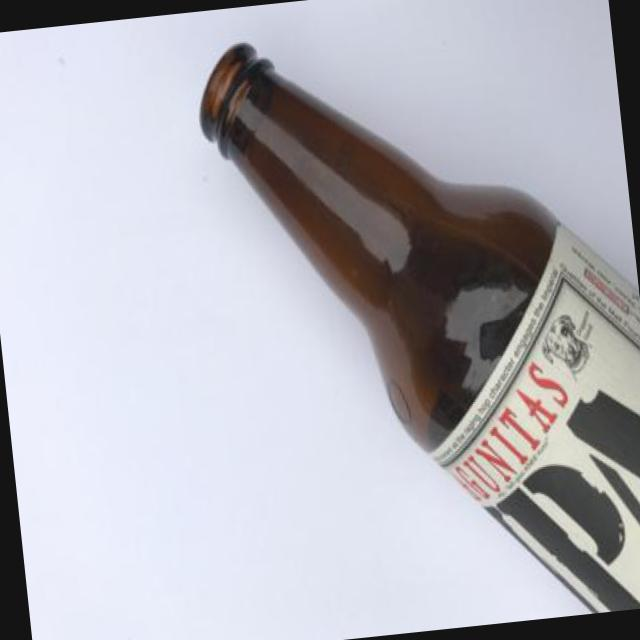chai_thuy_tinh: (198, 43, 562, 462)
giay: (430, 226, 640, 613)
